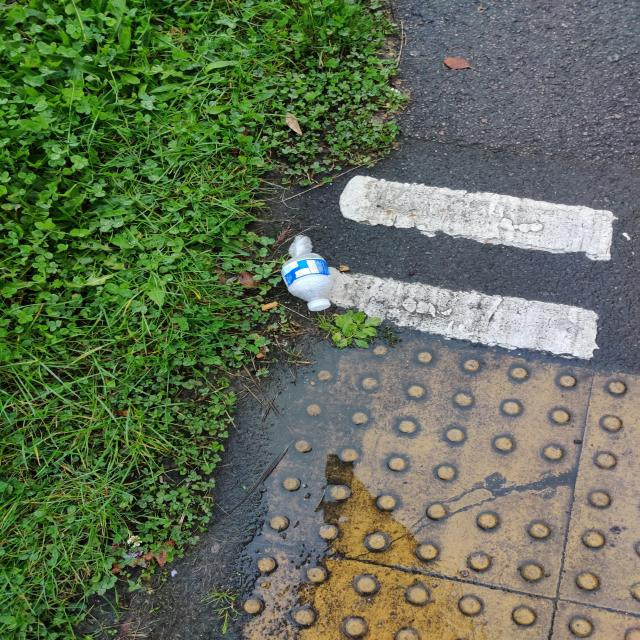litter: (279, 235, 333, 311)
